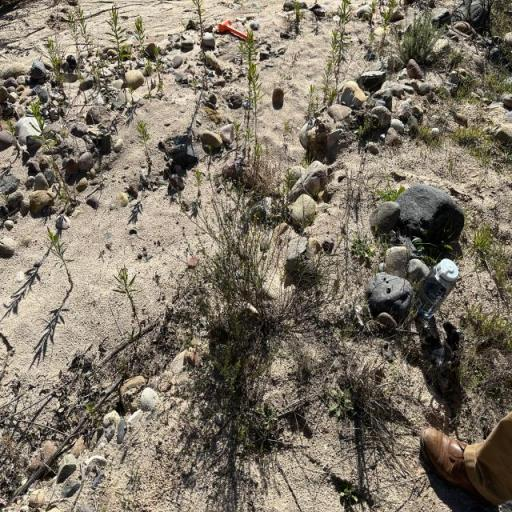bottle: (412, 258, 458, 319)
mallet: (218, 18, 253, 42)
